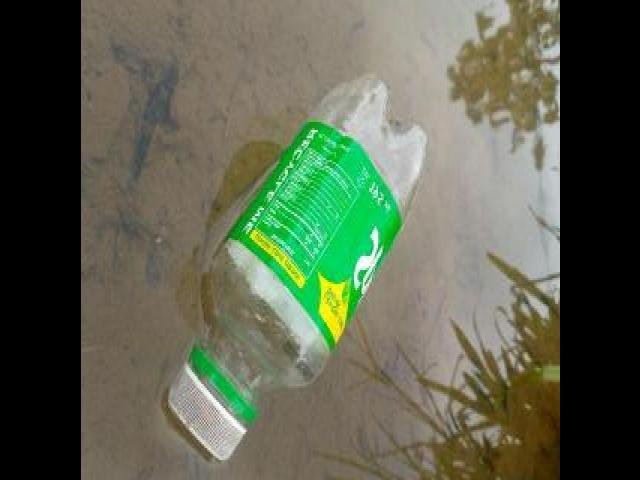Bottle: (161, 66, 428, 468)
